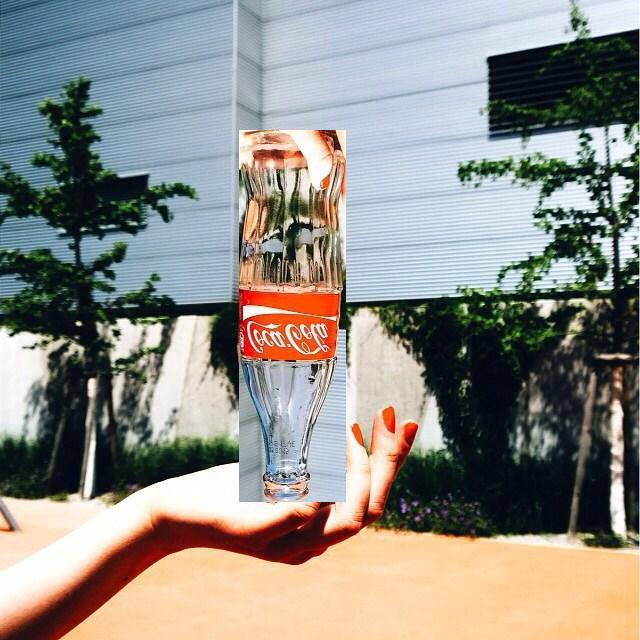coca-cola: (239, 130, 346, 502)
